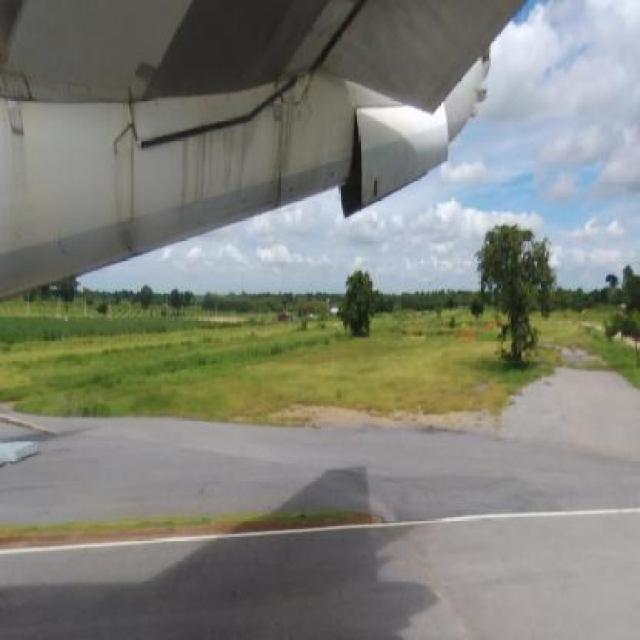Missing-Rivet: (0, 68, 37, 107)
Rust: (174, 111, 264, 227), (104, 117, 154, 268), (268, 80, 301, 220), (52, 217, 80, 269)
